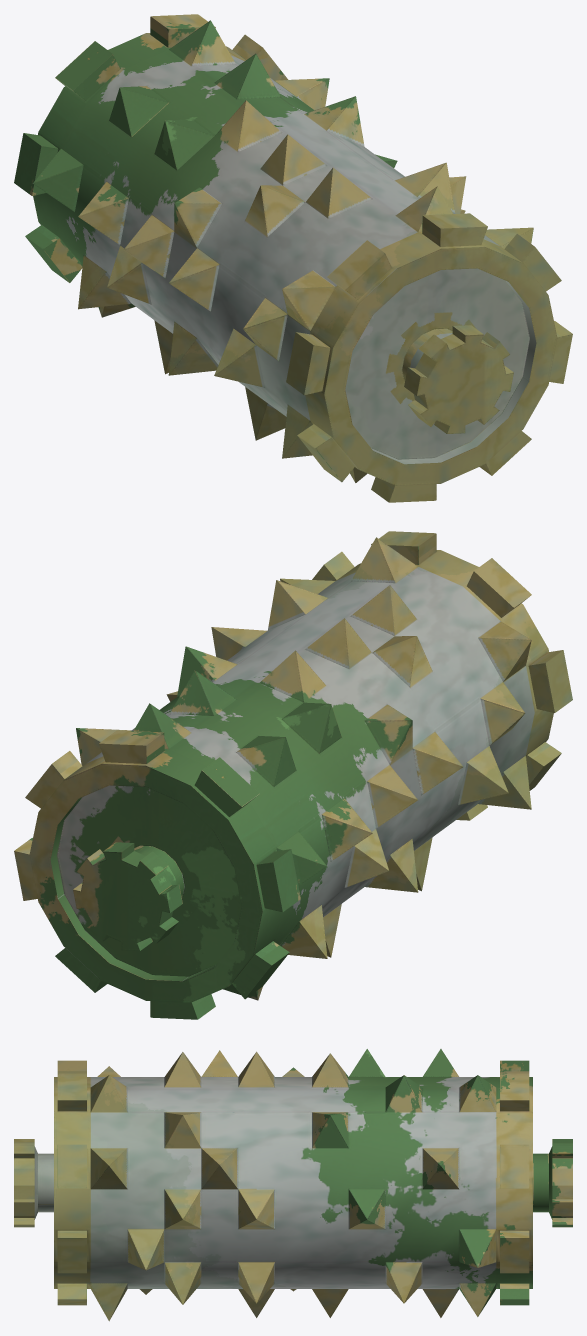
The model's file is OrchestrionMusicRoll.fbx.
The picture shows the model from 3 angles, top to bottom: view 1: azimuth 30°, elevation 25°; view 2: azimuth 150°, elevation 25°; view 3: azimuth 270°, elevation 25°; orthographic projection. The views are drawn at different scales.
Visible parts, largest first — view 1: Cylinder.003; view 2: Cylinder.003; view 3: Cylinder.003.
Boxes of the visible parts, x1,y1,x2,y2 form: Cylinder.003: (14, 14, 572, 502); Cylinder.003: (14, 531, 572, 1019); Cylinder.003: (14, 1049, 572, 1321).
Bounding box in the file's own units: 40.91 × 38.69 × 80.52.
Materials: 1 (1 with a texture image).
